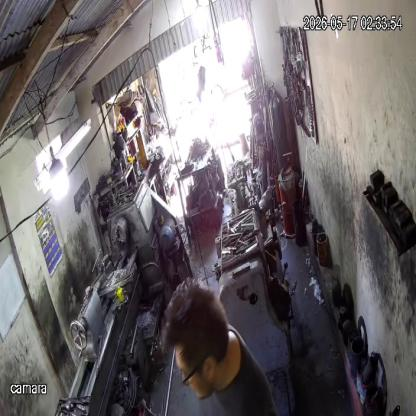lentes: (174, 364, 206, 388)
